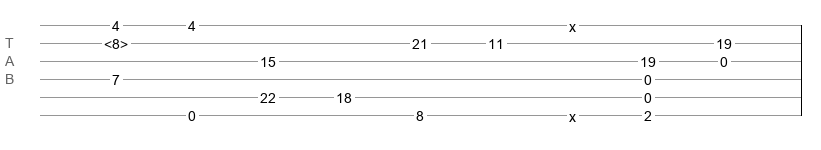0: (188, 108, 196, 118), (644, 90, 652, 100), (644, 72, 652, 82), (720, 54, 728, 64)
11: (488, 36, 504, 46)
15: (260, 54, 276, 64)
18: (336, 90, 352, 100)
19: (640, 54, 656, 64), (716, 36, 732, 46)
2: (644, 108, 652, 118)
21: (412, 36, 428, 46)
22: (260, 90, 276, 100)
4: (112, 18, 120, 28), (188, 18, 196, 28)
7: (112, 72, 120, 82)
8: (416, 108, 424, 118)
harmonic: (104, 36, 128, 46)
x: (569, 109, 576, 117), (569, 19, 576, 27)
